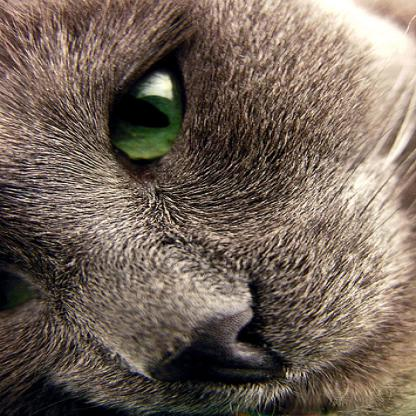cat: (0, 0, 414, 415)
